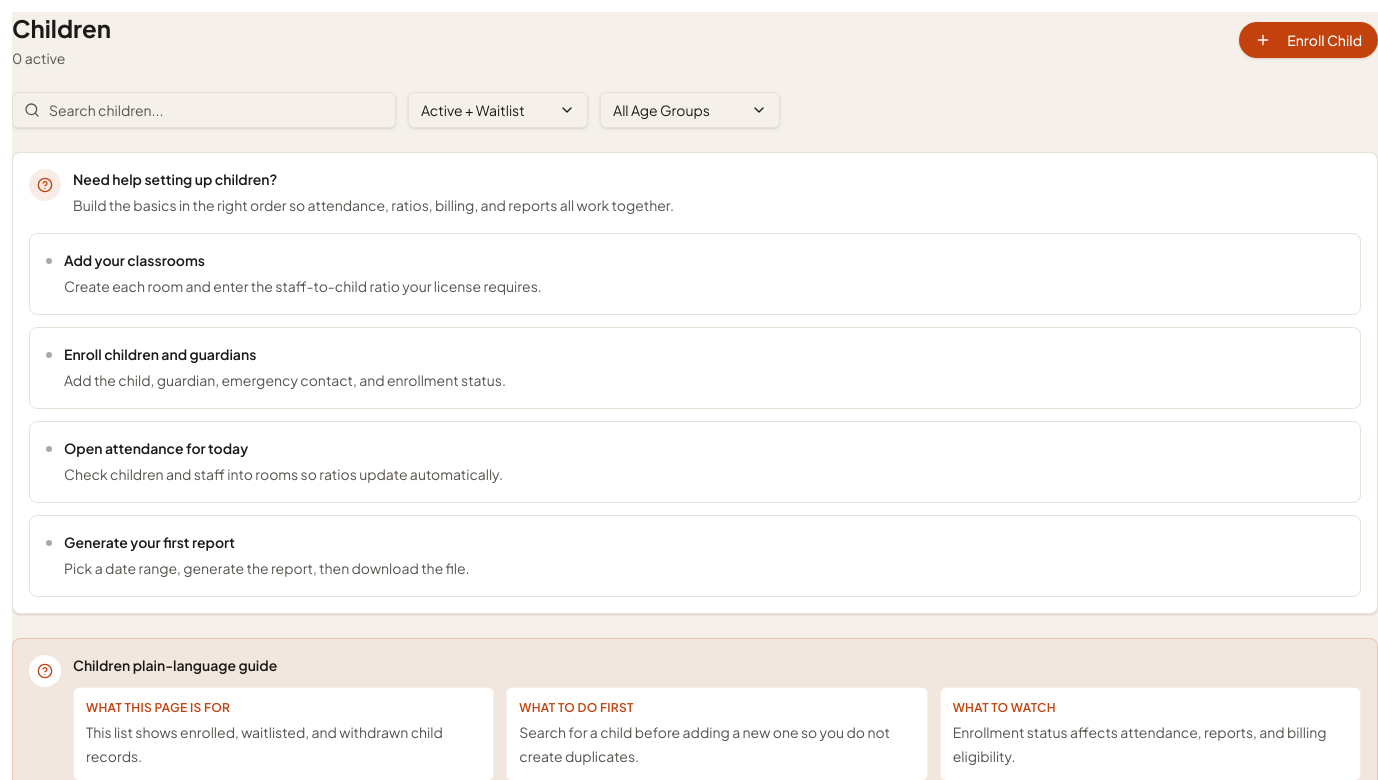
Test: children list page date formatting › switches the header summary into filtered mode instead of showing fake totals
Type "Mia" into the field with placeholder "Search children..." at x=204, y=110, box top-left (12, 92), bottom-right (396, 128)
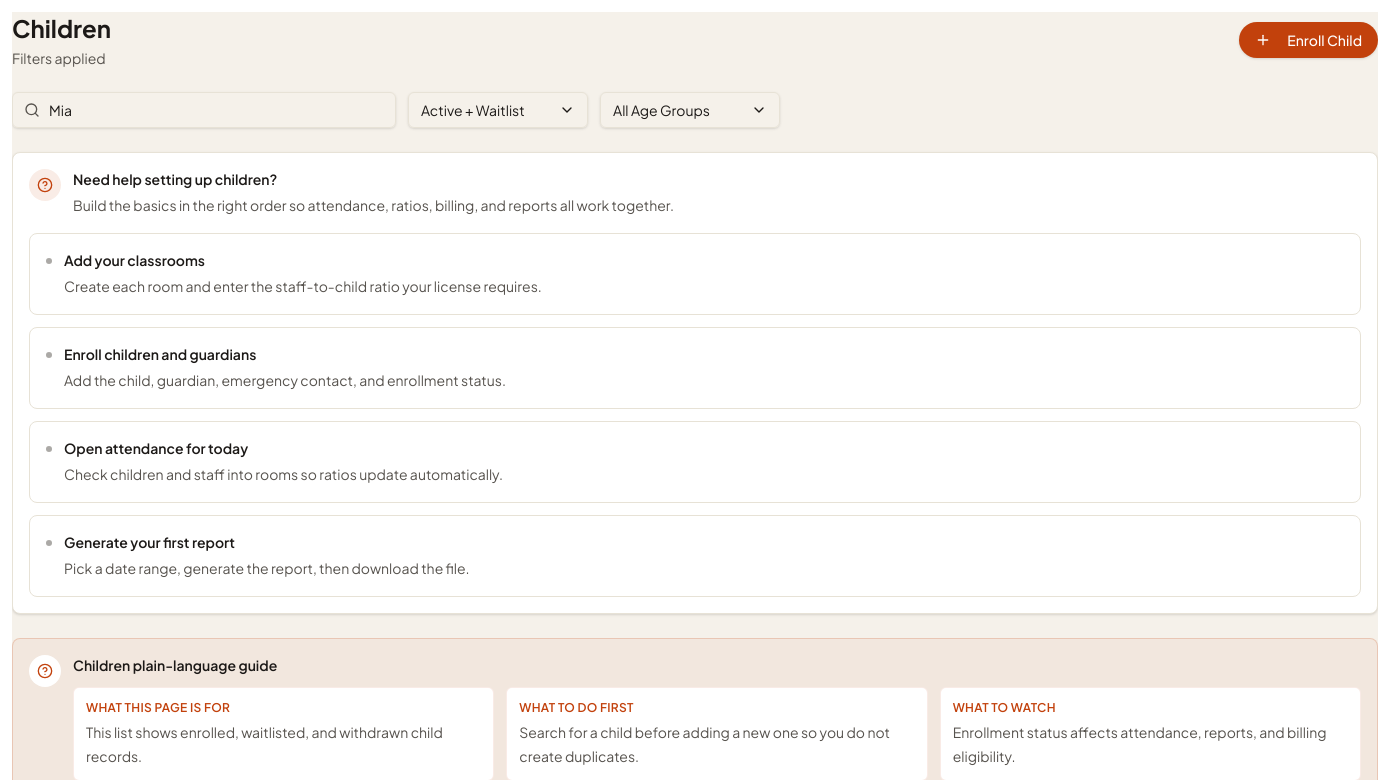
expect the text "Filters applied" is shown: met, box top-left (12, 48), bottom-right (111, 68)
expect the text "0 active" is gone: met
